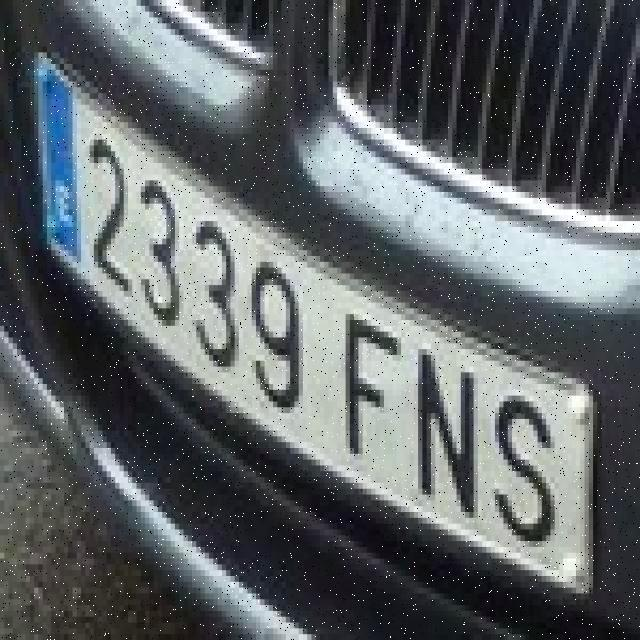LicensePlate: (23, 27, 605, 601)
